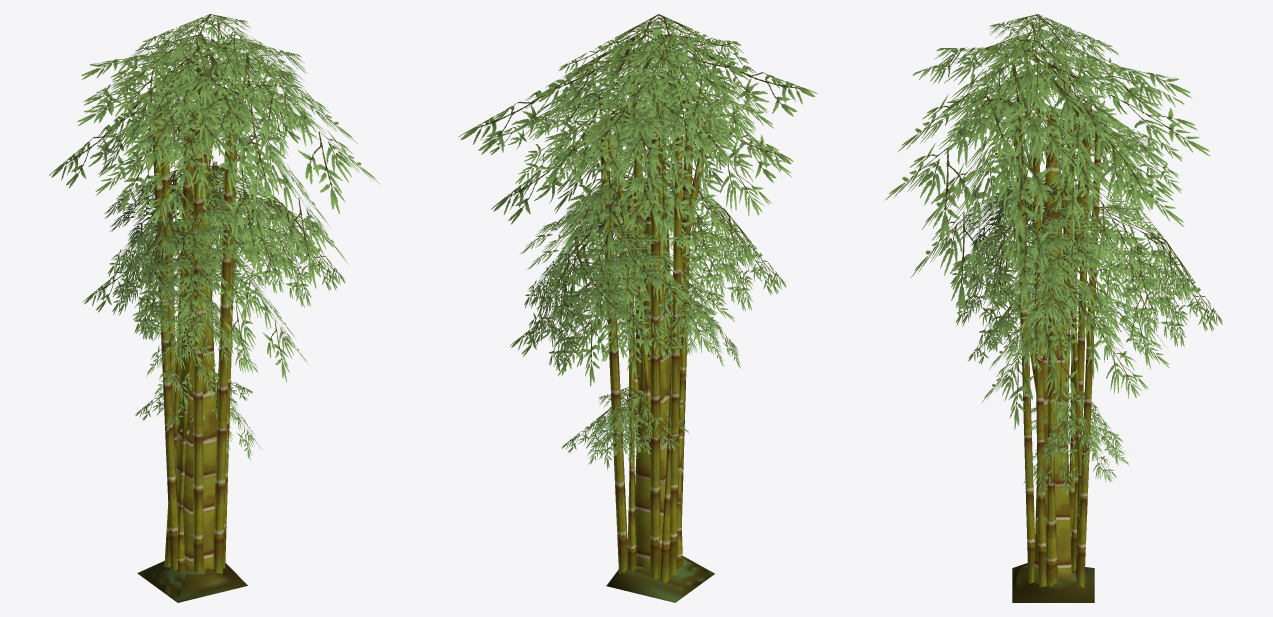
File: bamboo_v2.glb
The picture shows the model from 3 angles, left to right: view 1: azimuth 30°, elevation 25°; view 2: azimuth 150°, elevation 25°; view 3: azimuth 270°, elevation 25°; orthographic projection. The views are drawn at different scales.
Visible parts, largest first — view 1: bamboo; view 2: bamboo; view 3: bamboo.
Part boxes in pixels (<box>): bamboo: <box>49,14,380,602</box>; bamboo: <box>458,14,817,602</box>; bamboo: <box>884,14,1222,602</box>.
Bounding box in the file's own units: 3.07 × 5.27 × 3.27.
1 material, 1 textured.
